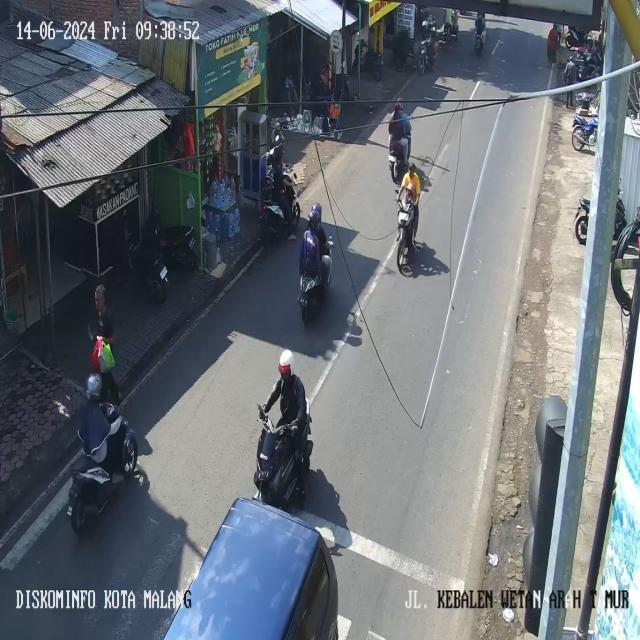Helmet: (278, 349, 293, 376), (85, 374, 101, 399), (308, 203, 322, 229), (394, 98, 402, 112), (406, 182, 414, 192)
Number Plate: (160, 267, 167, 278)
